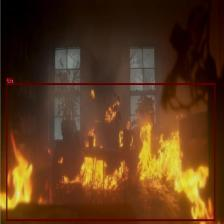fire: (6, 83, 215, 220)
